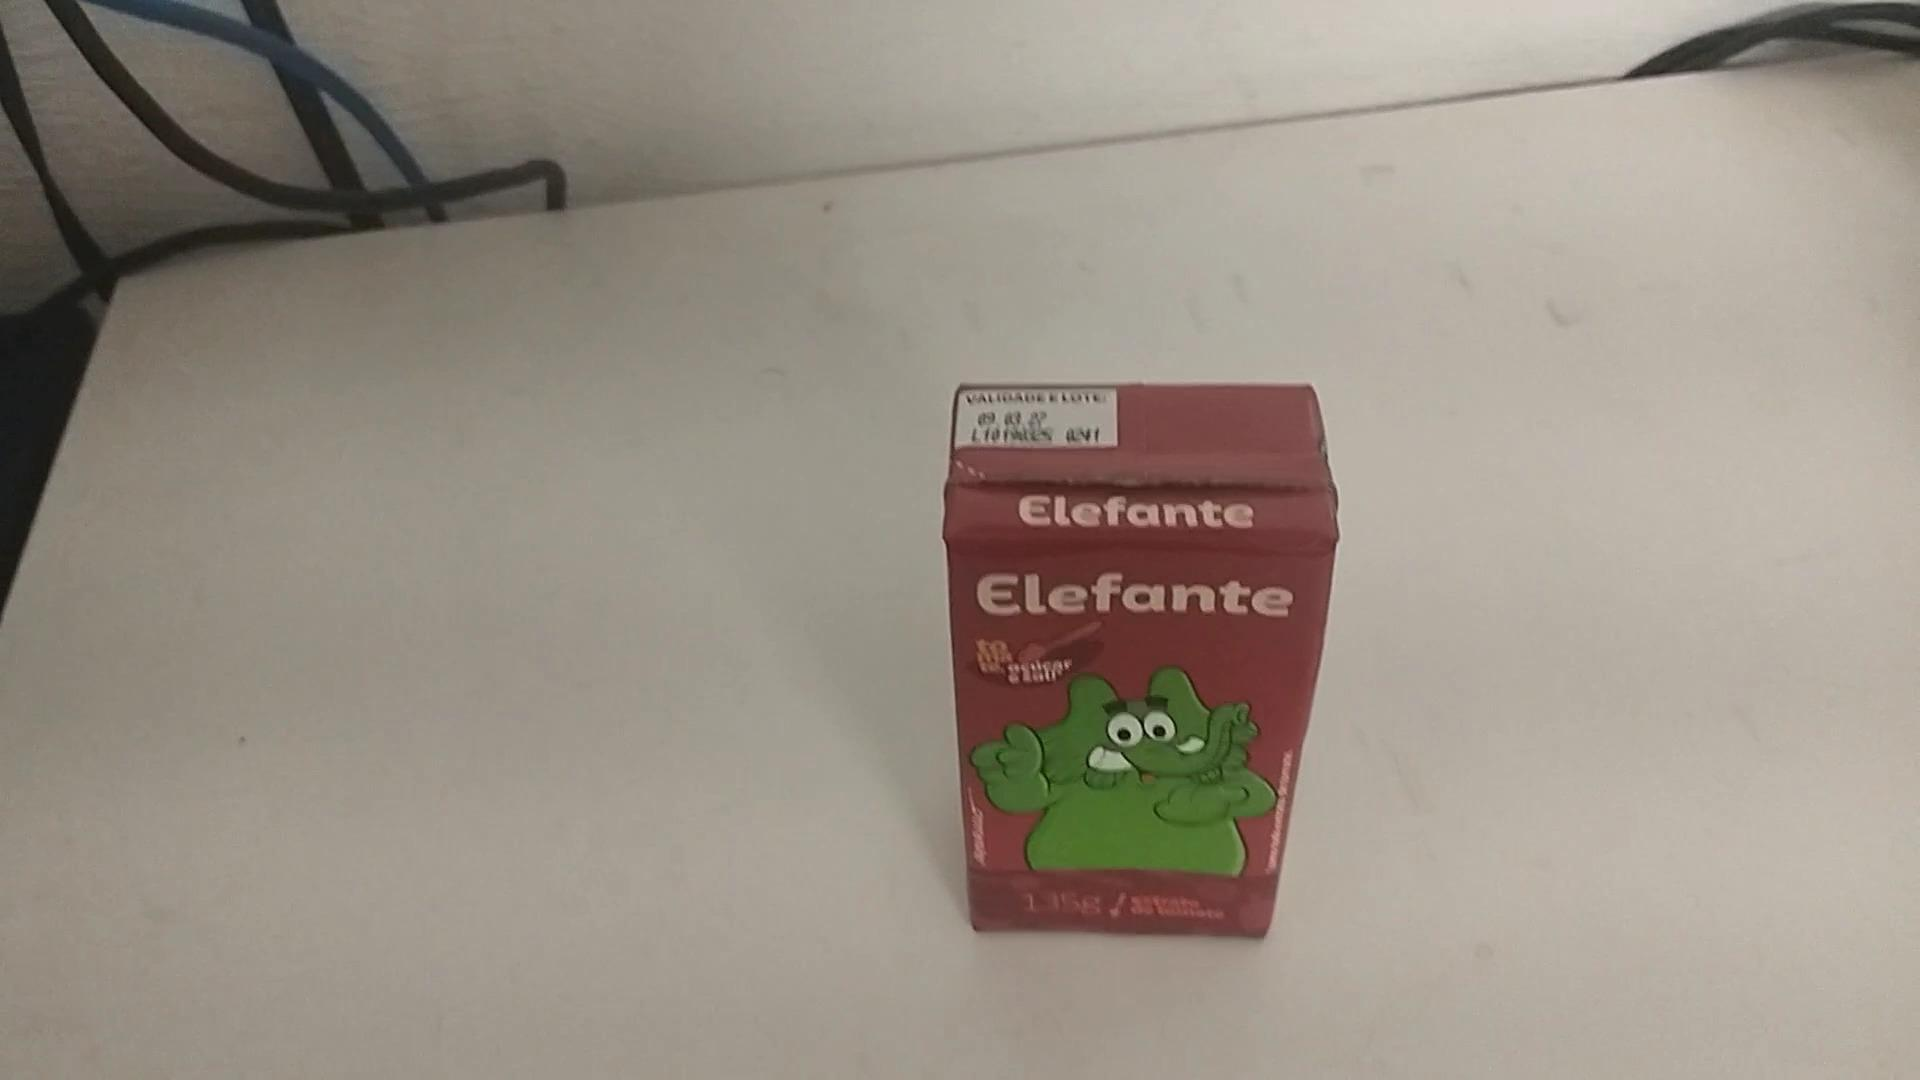tomate: (926, 364, 1342, 936)
